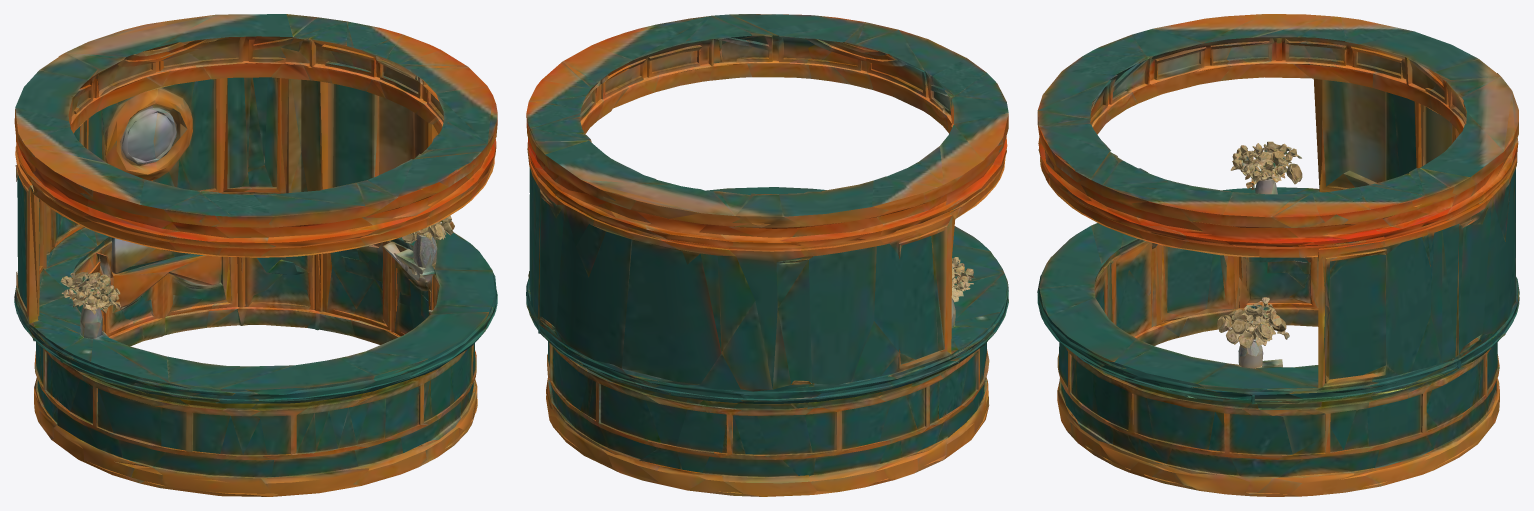
File: mx_hh_reception.glb
The picture shows the model from 3 angles, left to right: view 1: azimuth 30°, elevation 25°; view 2: azimuth 150°, elevation 25°; view 3: azimuth 270°, elevation 25°; orthographic projection.
Bounding box in the file's own units: 1.9 × 1.26 × 1.9.
1 material, 1 textured.
